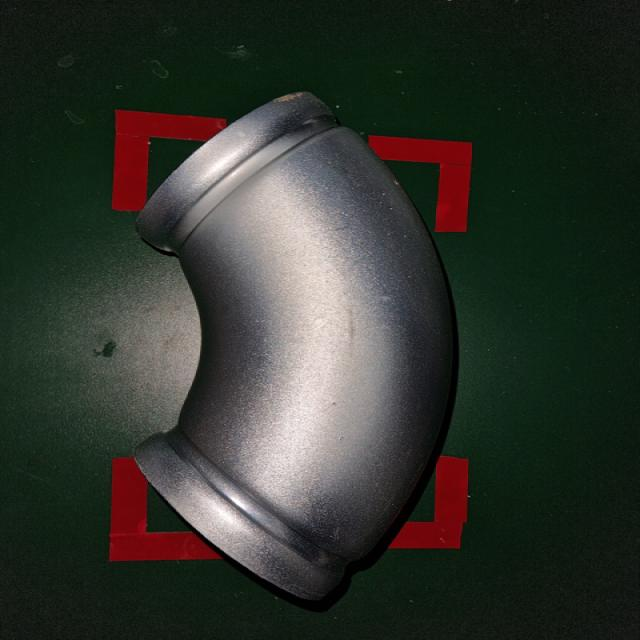Normal: (119, 88, 469, 610)
